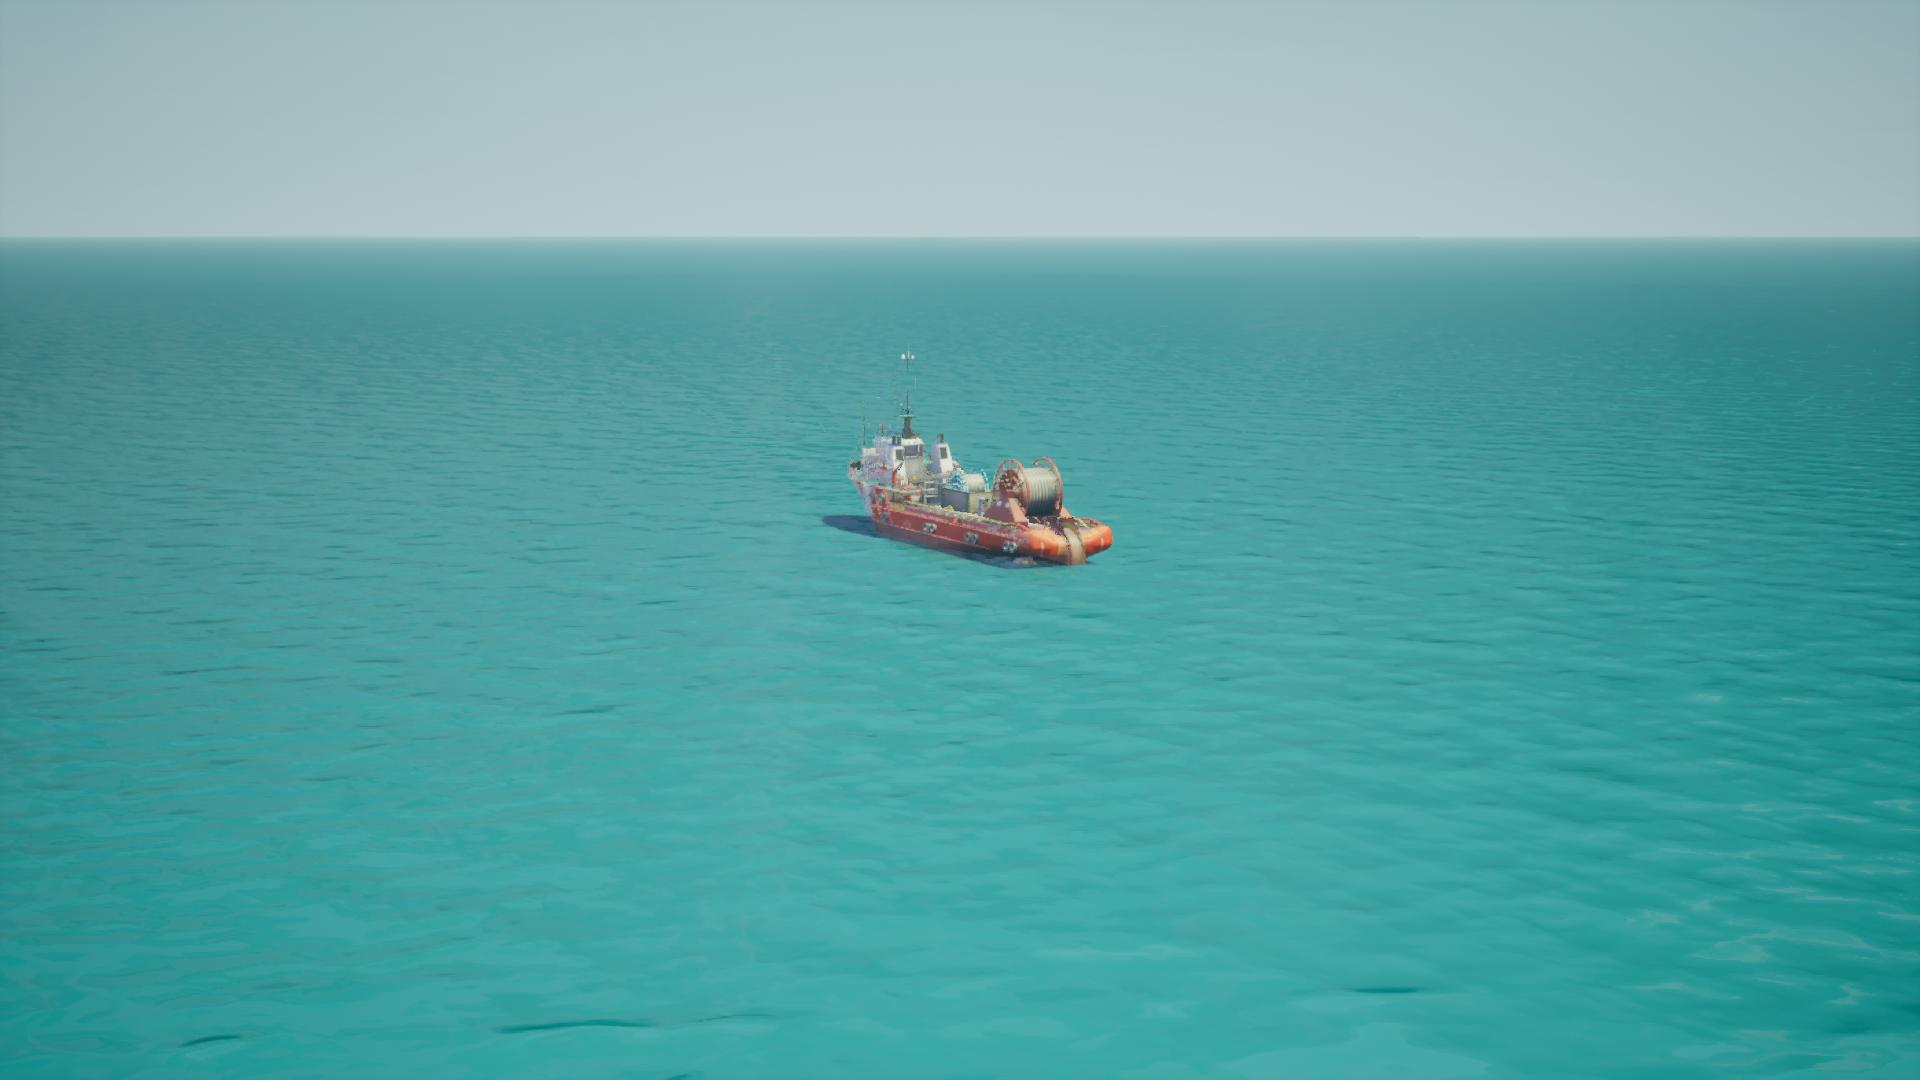Tug Boat: (827, 360, 1112, 579)
